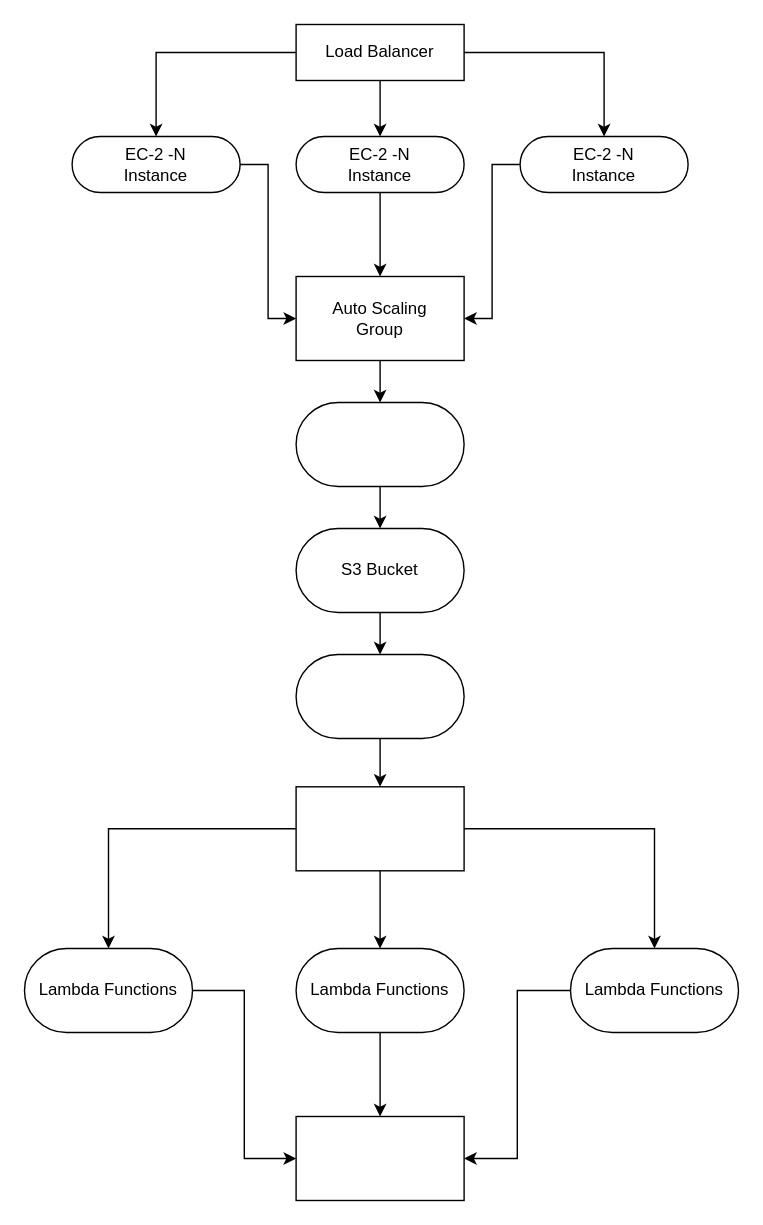
The diagram is 763 pixels wide and 1225 high, and some of its shapes have lost their labels. Each missing label, with the centre of its shape:
"API - Gateway" goes at pixel 379 828.
"CloudFront CDN" goes at pixel 379 695.
"RDS Database" goes at pixel 379 443.
"SQS- Queue" goes at pixel 379 1157.
